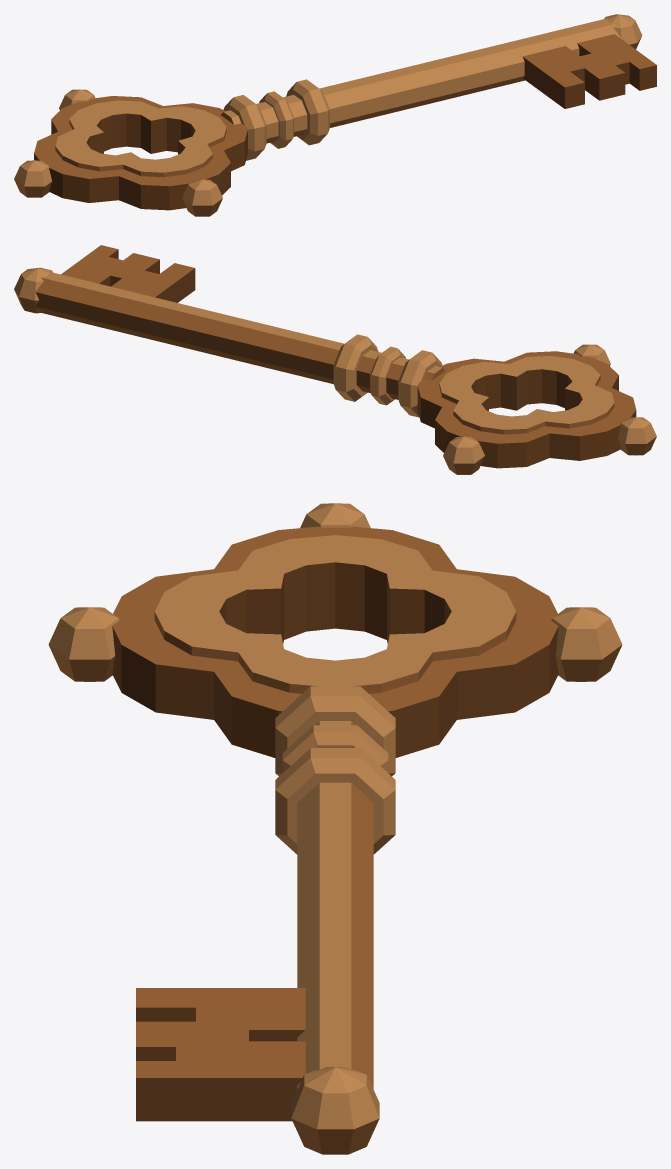
File: treasure_key.glb
3 views of the same model, one above another, from view 1: azimuth 30°, elevation 25°; view 2: azimuth 150°, elevation 25°; view 3: azimuth 270°, elevation 25° (orthographic). The views are drawn at different scales.
Parts seen in each view (by area): view 1: treasure_key; view 2: treasure_key; view 3: treasure_key.
Boxes of the visible parts, box(x1,y1,x2,y2) form: treasure_key: box(14, 14, 656, 216); treasure_key: box(14, 245, 656, 474); treasure_key: box(48, 503, 622, 1154).
Size of the model in its own units: 0.215 by 0.0181 by 0.0864.
